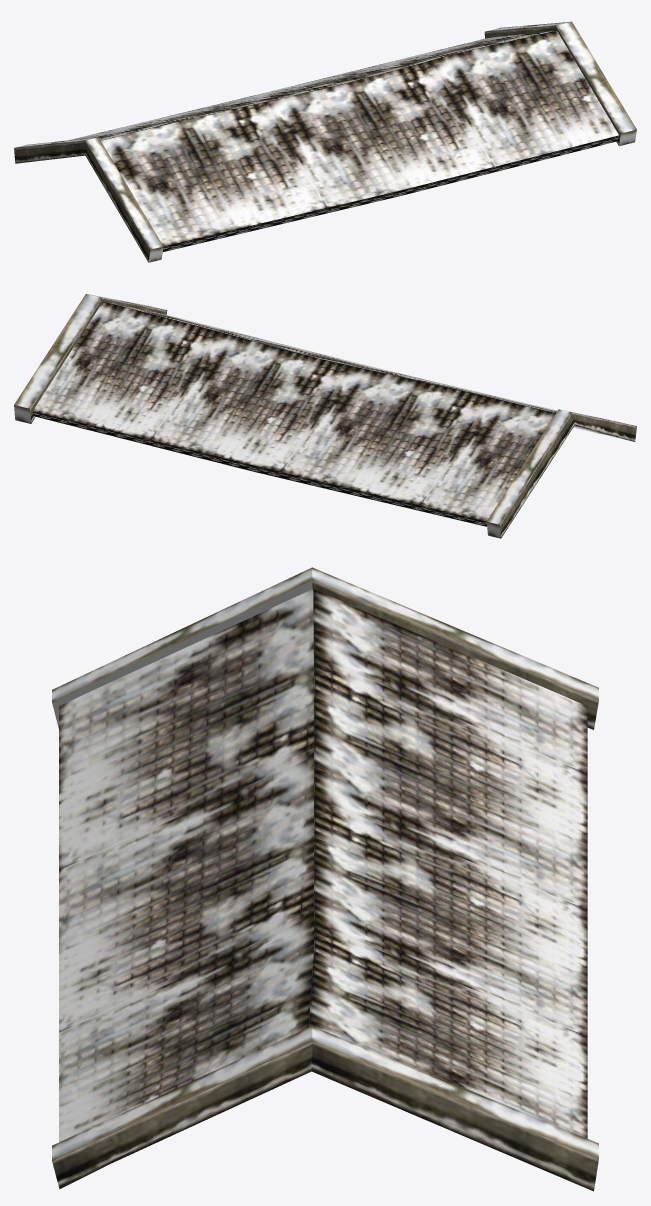
The model's file is fangd02.obj.
The picture shows the model from 3 angles, top to bottom: view 1: azimuth 30°, elevation 25°; view 2: azimuth 150°, elevation 25°; view 3: azimuth 270°, elevation 25°; orthographic projection. The views are drawn at different scales.
Visible parts, largest first — view 1: fangd02; view 2: fangd02; view 3: fangd02.
Part boxes in pixels (x1,y1,x2,y2): fangd02: (14, 21, 636, 262); fangd02: (14, 294, 636, 538); fangd02: (52, 567, 598, 1191).
Size of the model in its own units: 202 by 32.42 by 97.97.
